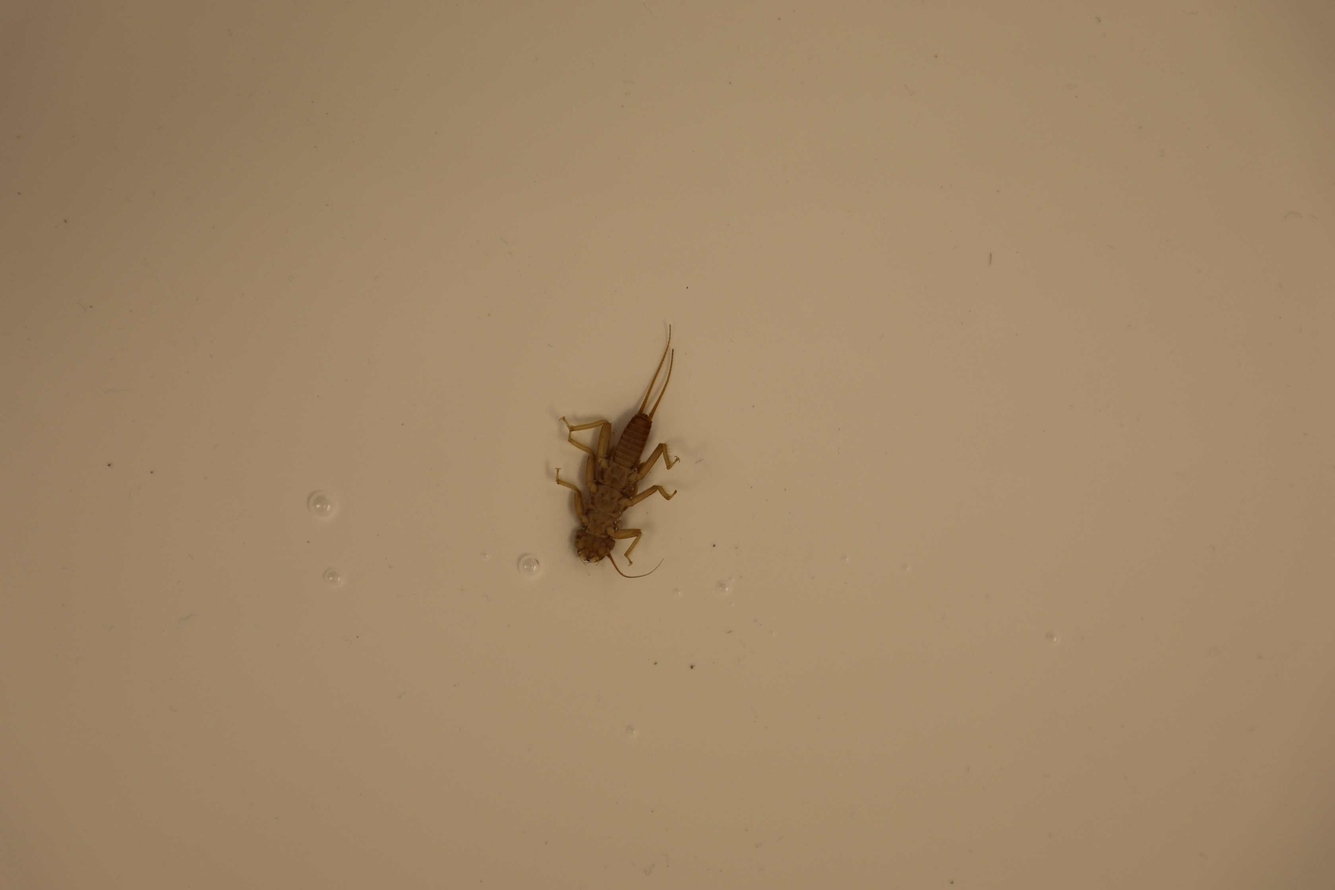Stonefly: (548, 319, 677, 589)
